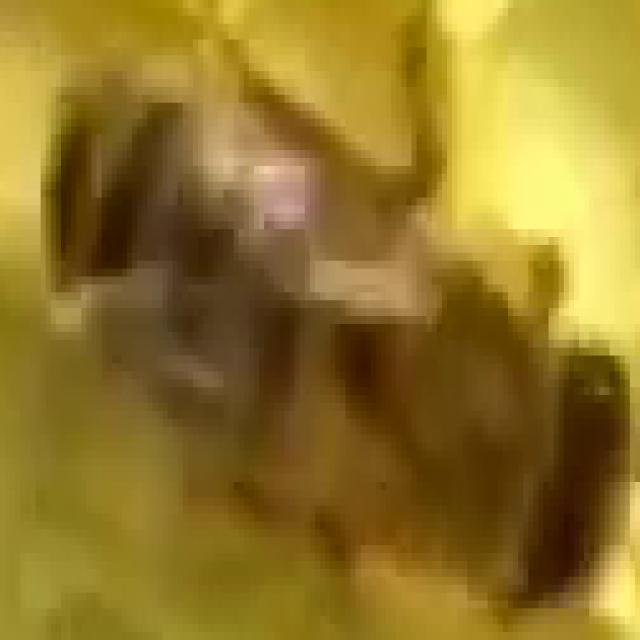honeybee: (40, 53, 625, 591)
